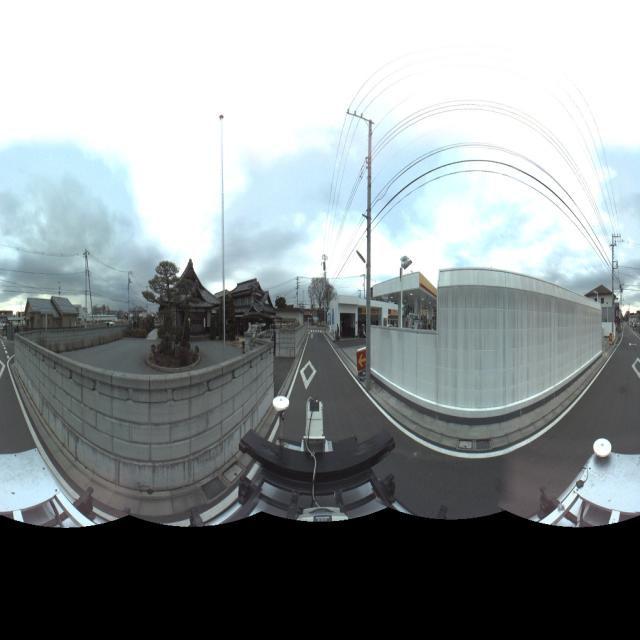b_1: (164, 246, 219, 343), (230, 270, 279, 346), (24, 279, 78, 341)
